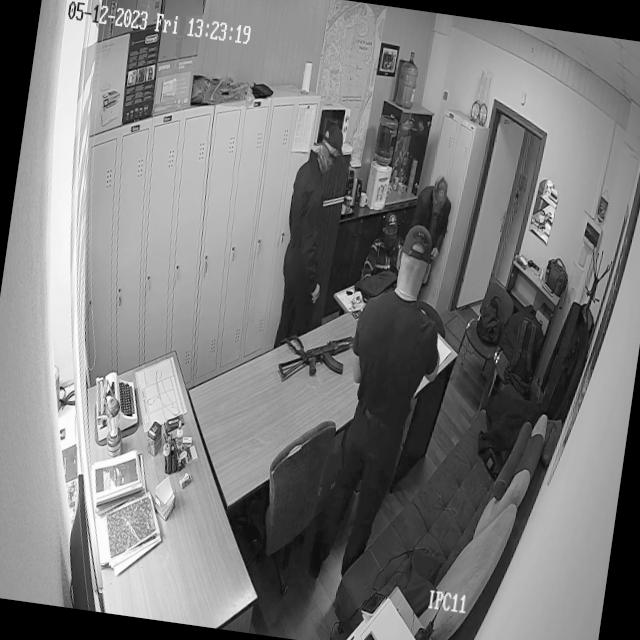gun: (274, 316, 363, 390)
person: (272, 122, 364, 348), (424, 173, 452, 236)
person with a gun: (327, 203, 463, 592)
